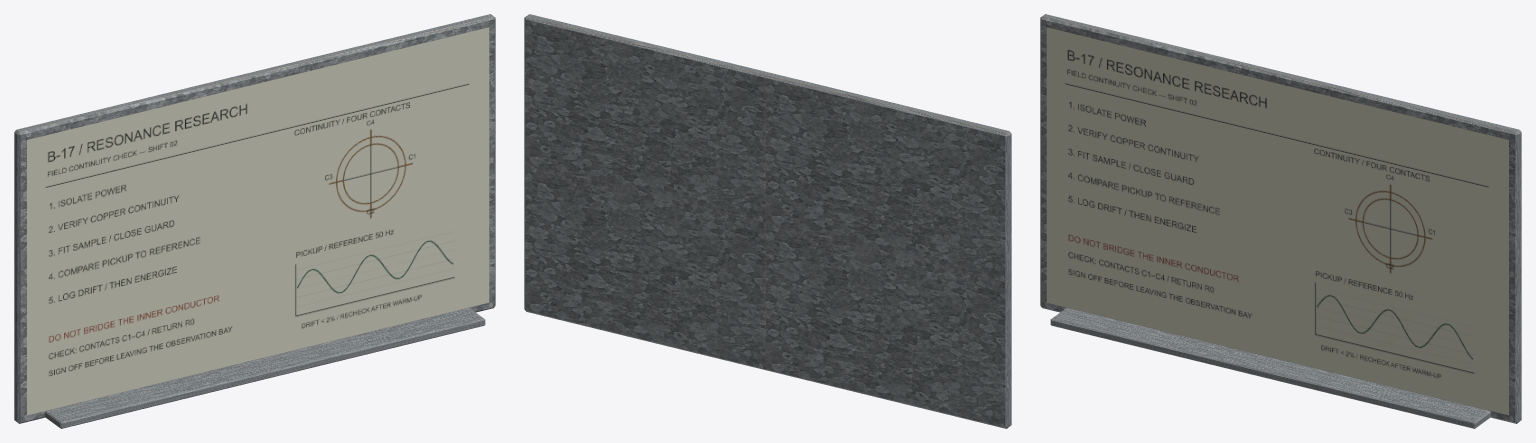
File: lab_notes_board.glb
The picture shows the model from 3 angles, left to right: view 1: azimuth 30°, elevation 25°; view 2: azimuth 150°, elevation 25°; view 3: azimuth 330°, elevation 25°; orthographic projection.
Visible parts, largest first — view 1: Procedure surface, Oxidized aluminum board frame; view 2: Oxidized aluminum board frame; view 3: Procedure surface, Oxidized aluminum board frame.
Part boxes in pixels (<box>): Procedure surface: <box>27,27,489,415</box>; Oxidized aluminum board frame: <box>14,14,495,428</box>; Oxidized aluminum board frame: <box>524,14,1011,428</box>; Procedure surface: <box>1046,27,1508,415</box>; Oxidized aluminum board frame: <box>1040,14,1521,428</box>.
Size of the model in its own units: 1.8 by 1.05 by 0.1375.
Materials: 2 (2 with a texture image).
